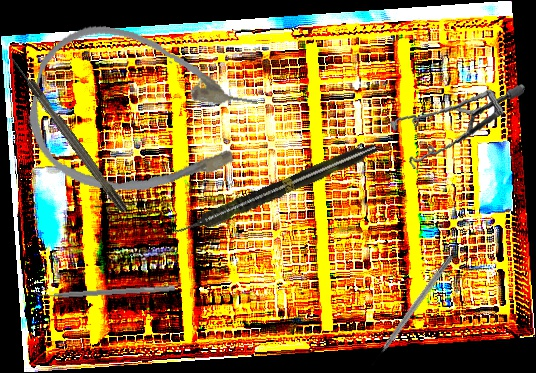Cannula: (17, 14, 267, 217)
Handpiece: (171, 138, 380, 242)
Hook Surgical: (7, 53, 129, 215), (368, 253, 455, 367)
Spatula Surgical: (33, 279, 176, 301)
Speculum: (383, 66, 526, 183)
